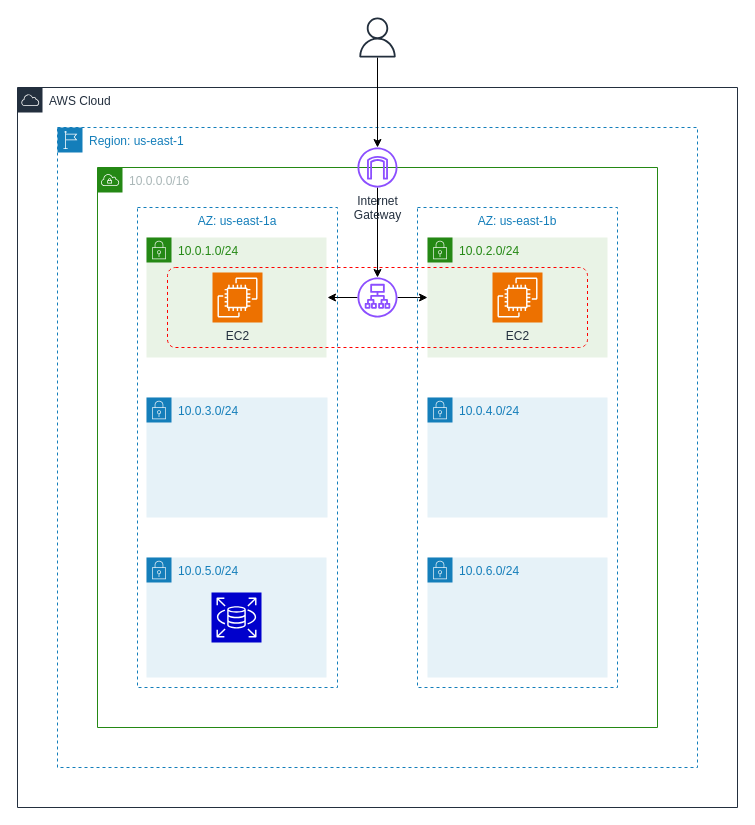
Image size: 755x825. Some labels were removed from this diagram. The shapes that lost their labels are listed below. From the top down, each one's centre as x and y in pixels, then its label:
At pixel 377 297: "Application Load Balancer".
At pixel 236 617: "MySQL".
